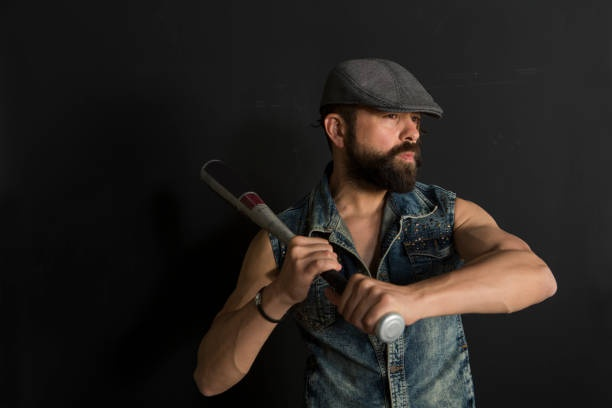bita: (206, 154, 400, 344)
